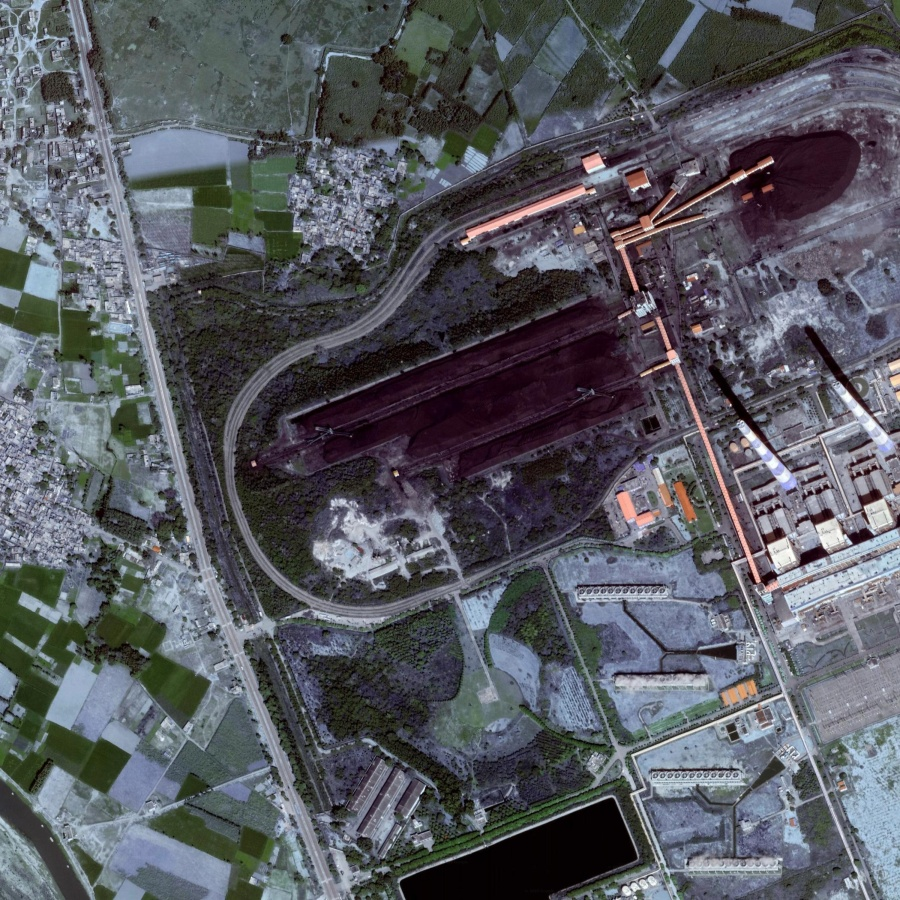PowerPlant: (248, 95, 856, 604)
